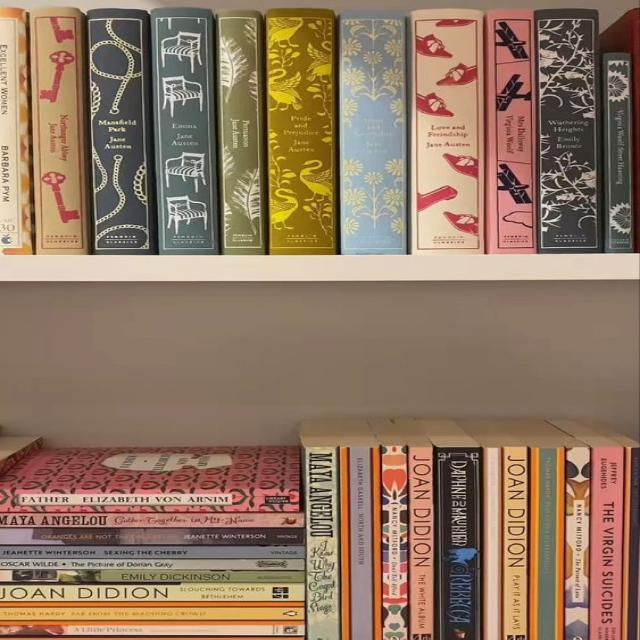book: (265, 9, 338, 254), (410, 9, 482, 254), (88, 10, 156, 254), (151, 9, 216, 254), (340, 11, 405, 254), (535, 10, 598, 252), (30, 8, 89, 254), (485, 10, 535, 254), (217, 10, 263, 254), (437, 446, 480, 640), (341, 445, 383, 640), (0, 8, 32, 254), (0, 487, 299, 511), (0, 602, 305, 625), (531, 447, 564, 640), (602, 52, 633, 253), (305, 447, 335, 640), (0, 511, 306, 529), (593, 447, 621, 640), (408, 446, 436, 638), (383, 445, 410, 640), (0, 584, 308, 601), (502, 445, 528, 640), (0, 529, 304, 545), (0, 625, 304, 640), (565, 447, 588, 640), (482, 448, 504, 640), (1, 569, 305, 581), (1, 558, 304, 570), (2, 546, 304, 557)
